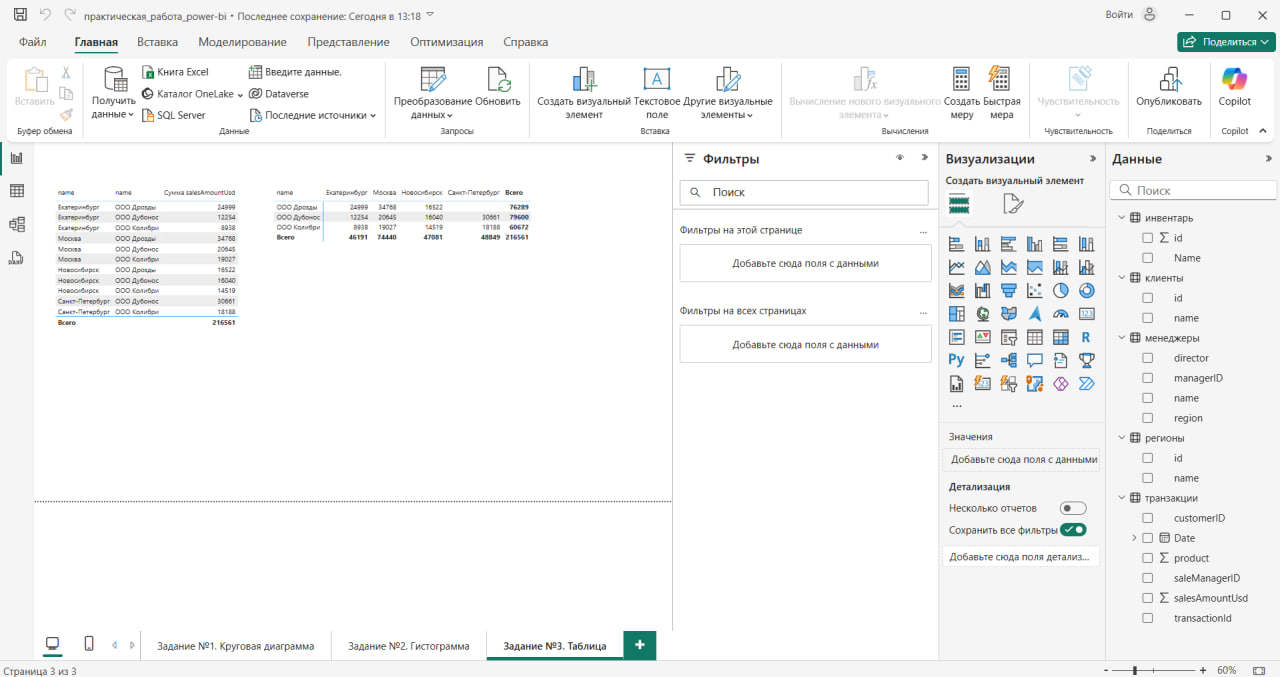

Layout of this report page (visuals, bound fields, positions):
{"tool":"powerbi","page":{"name":"Задание №3. Таблица","canvas":[1280,720],"ordinal":2},"visuals":[{"type":"pivotTable","fields":{"Rows":["клиенты.name"],"Columns":["регионы.name"],"Values":["Sum(транзакции.salesAmountUsd)"]},"box":[476.4,85.2,650.2,549.9],"z":0},{"type":"tableEx","fields":{"Values":["регионы.name","клиенты.name","Sum(транзакции.salesAmountUsd)"]},"box":[36.8,85.2,414.5,310.9],"z":1}]}

Visuals, with their boxes on the page's 1280x720 design canvas (x1, y1, x2, y2). These are canvas units, not pixel positions in the 1280x677 screenshot, which may show the page scaled, cropped or inside an application window:
pivotTable - клиенты.name x регионы.name: detection(476, 85, 1127, 635)
tableEx - регионы.name x клиенты.name: detection(37, 85, 451, 396)
